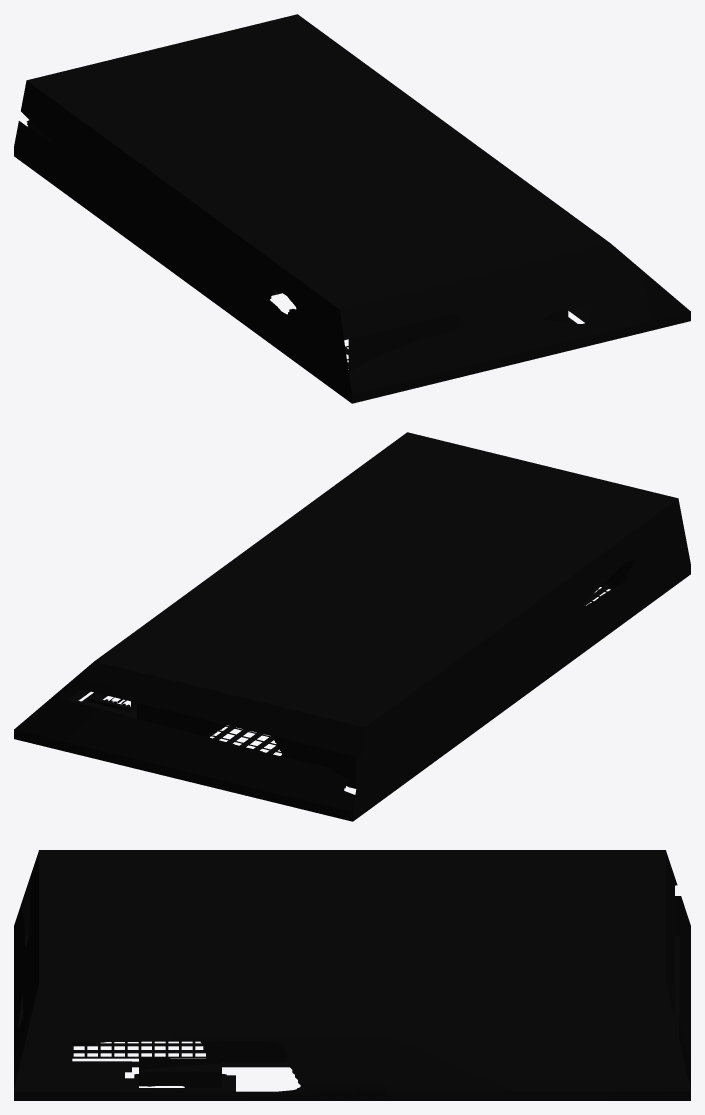
File: hood.obj
The picture shows the model from 3 angles, top to bottom: view 1: azimuth 30°, elevation 25°; view 2: azimuth 150°, elevation 25°; view 3: azimuth 270°, elevation 25°; orthographic projection.
Parts seen in each view (by area): view 1: hood; view 2: hood; view 3: hood.
Part boxes in pixels (x1,y1,x2,y2): hood: (14,14,690,403); hood: (14,432,690,821); hood: (14,850,690,1100).
Bounding box in the file's own units: 1.12 × 0.29 × 1.94.
